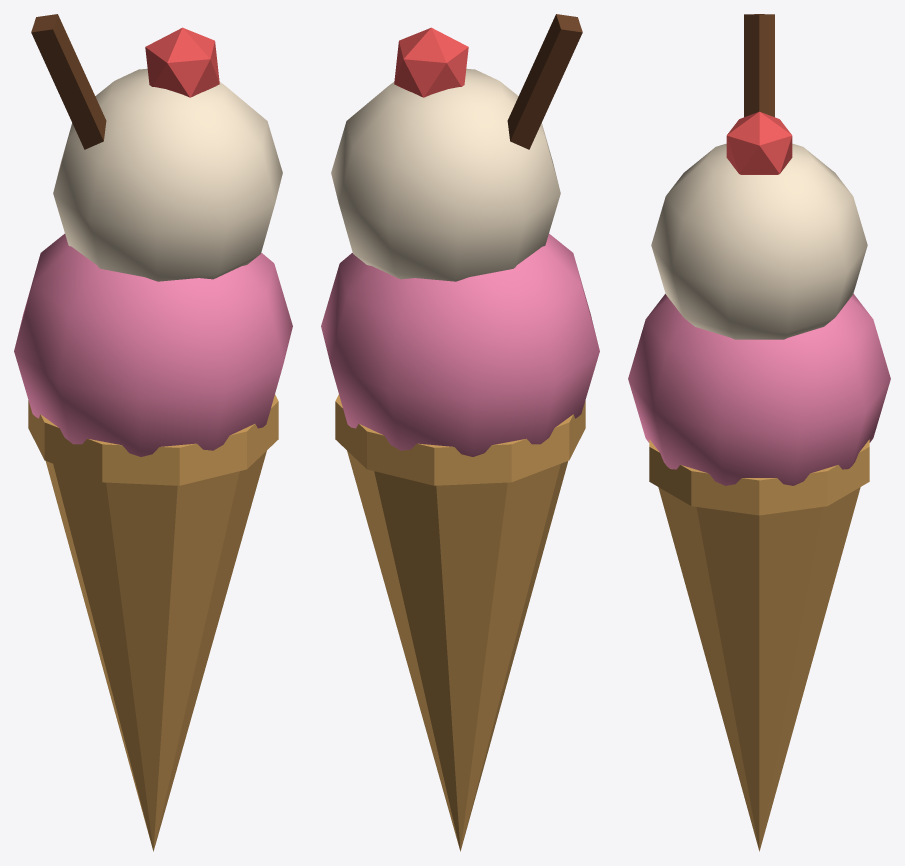
The model's file is ice_cream.glb.
The picture shows the model from 3 angles, left to right: view 1: azimuth 30°, elevation 25°; view 2: azimuth 150°, elevation 25°; view 3: azimuth 270°, elevation 25°; orthographic projection. The views are drawn at different scales.
Parts seen in each view (by area): view 1: ice_cream; view 2: ice_cream; view 3: ice_cream.
Part boxes in pixels (x1,y1,x2,y2): ice_cream: (14, 14, 292, 851); ice_cream: (321, 14, 599, 851); ice_cream: (628, 14, 890, 851).
Size of the model in its own units: 0.066 by 0.2266 by 0.068.
